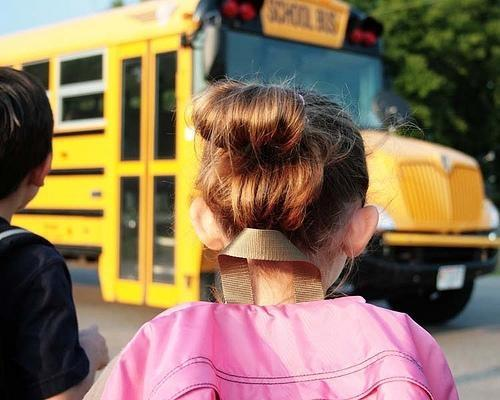bus: (3, 0, 500, 328)
